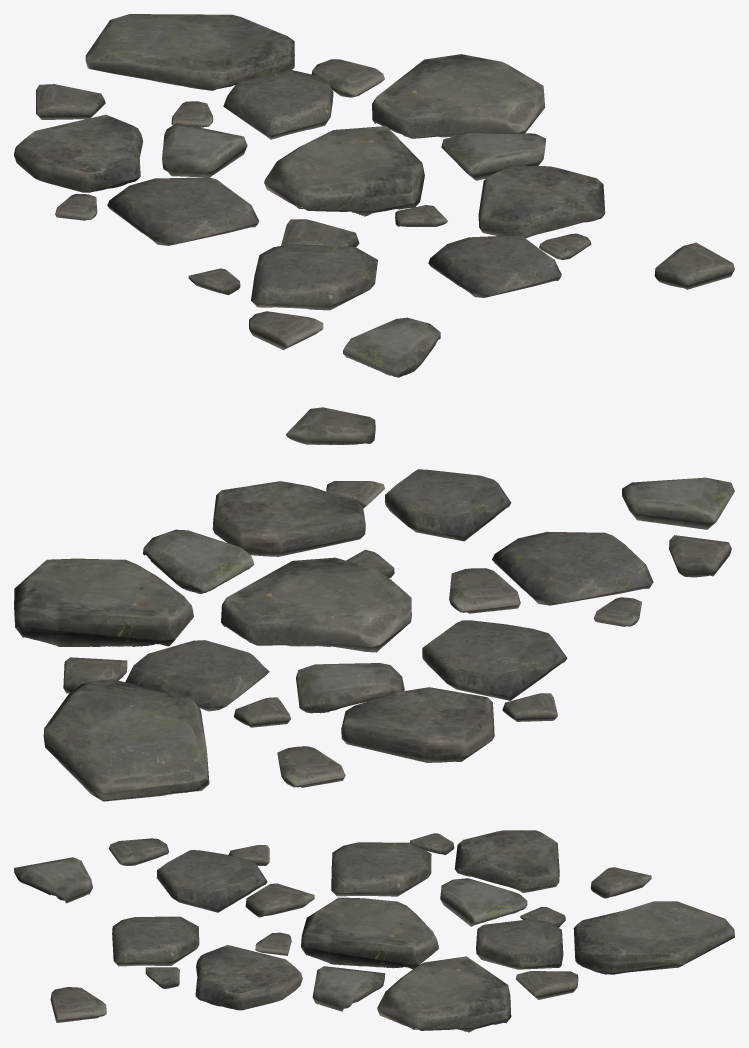
The picture shows the model from 3 angles, top to bottom: view 1: azimuth 30°, elevation 25°; view 2: azimuth 150°, elevation 25°; view 3: azimuth 270°, elevation 25°; orthographic projection. The views are drawn at different scales.
Parts seen in each view (by area): view 1: SM_DeathTemple_Cobble_Road_01v5_LOD0; view 2: SM_DeathTemple_Cobble_Road_01v5_LOD0; view 3: SM_DeathTemple_Cobble_Road_01v5_LOD0.
Boxes of the visible parts, bbox=[...] form: SM_DeathTemple_Cobble_Road_01v5_LOD0: bbox=[14, 14, 734, 377]; SM_DeathTemple_Cobble_Road_01v5_LOD0: bbox=[14, 407, 734, 801]; SM_DeathTemple_Cobble_Road_01v5_LOD0: bbox=[14, 830, 734, 1032].
Bounding box in the file's own units: 1.9 × 0.1298 × 2.96.
1 material, 1 textured.
